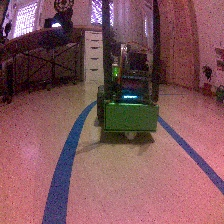rob: (95, 48, 159, 140)
